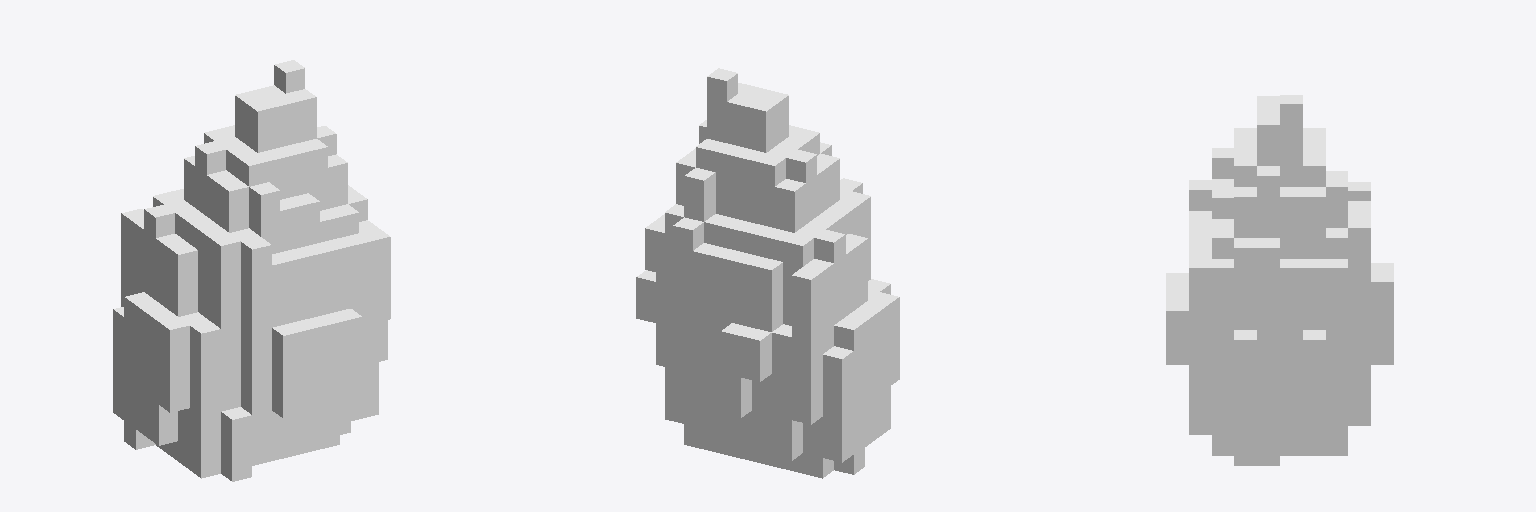
Rendered from FairyTears.obj.
3 views of the same model, side by side, from view 1: azimuth 30°, elevation 25°; view 2: azimuth 150°, elevation 25°; view 3: azimuth 270°, elevation 25° (orthographic).
Visible parts, largest first — view 1: object 1; view 2: object 1; view 3: object 1.
Part boxes in pixels (bbox=[...]): object 1: bbox=[113, 60, 390, 481]; object 1: bbox=[636, 68, 899, 478]; object 1: bbox=[1166, 95, 1393, 465].
Size of the model in its own units: 1.1 by 1.7 by 1.